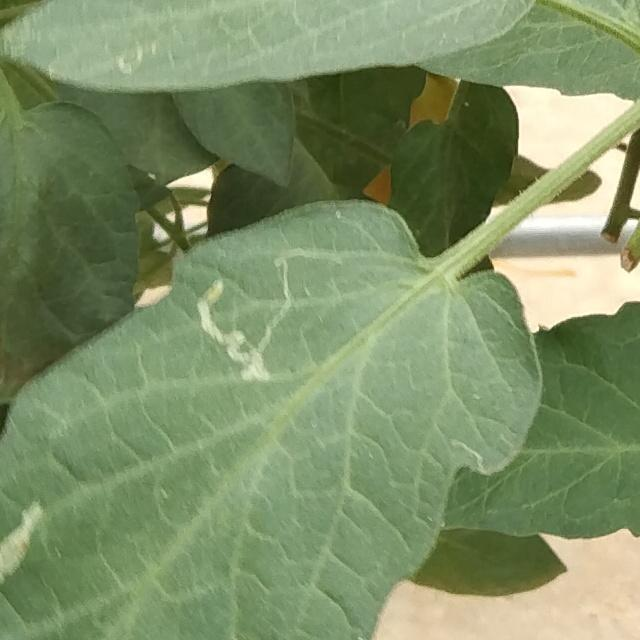Leaf_Miner: (0, 197, 542, 640)
